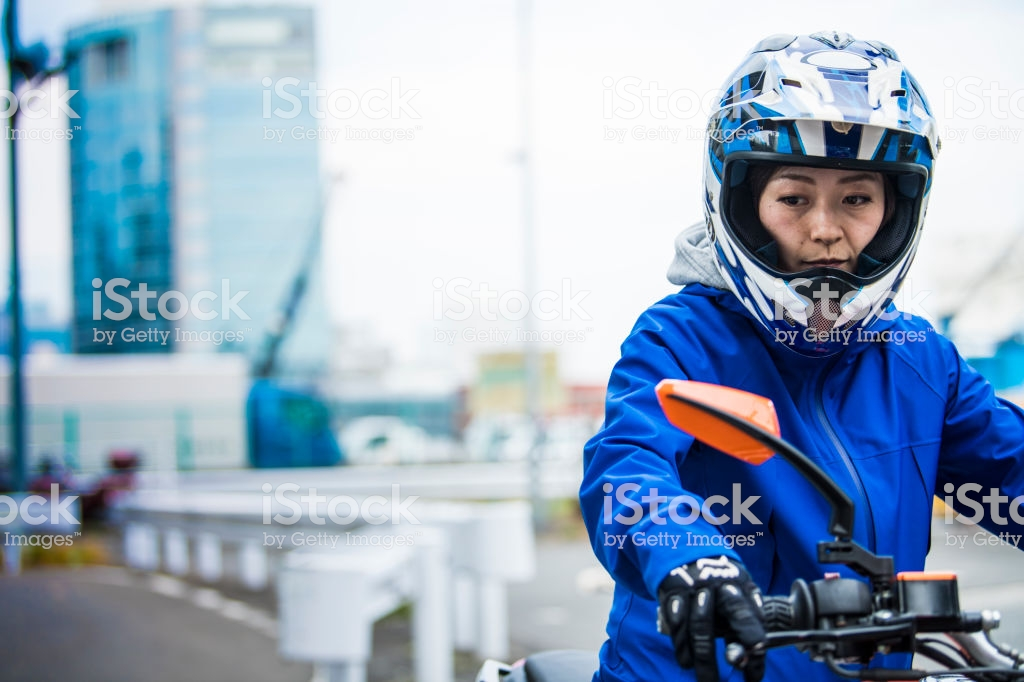helmet: (708, 27, 937, 370)
